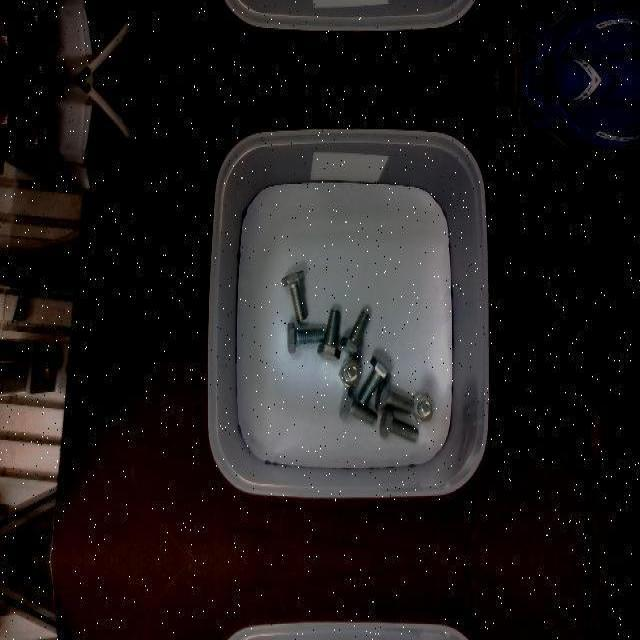screw: (358, 355, 391, 405), (340, 309, 371, 359), (339, 388, 378, 426), (379, 406, 418, 442), (375, 379, 414, 413), (282, 271, 307, 321), (316, 308, 340, 360), (287, 322, 325, 354), (339, 359, 362, 389), (412, 393, 435, 423)
